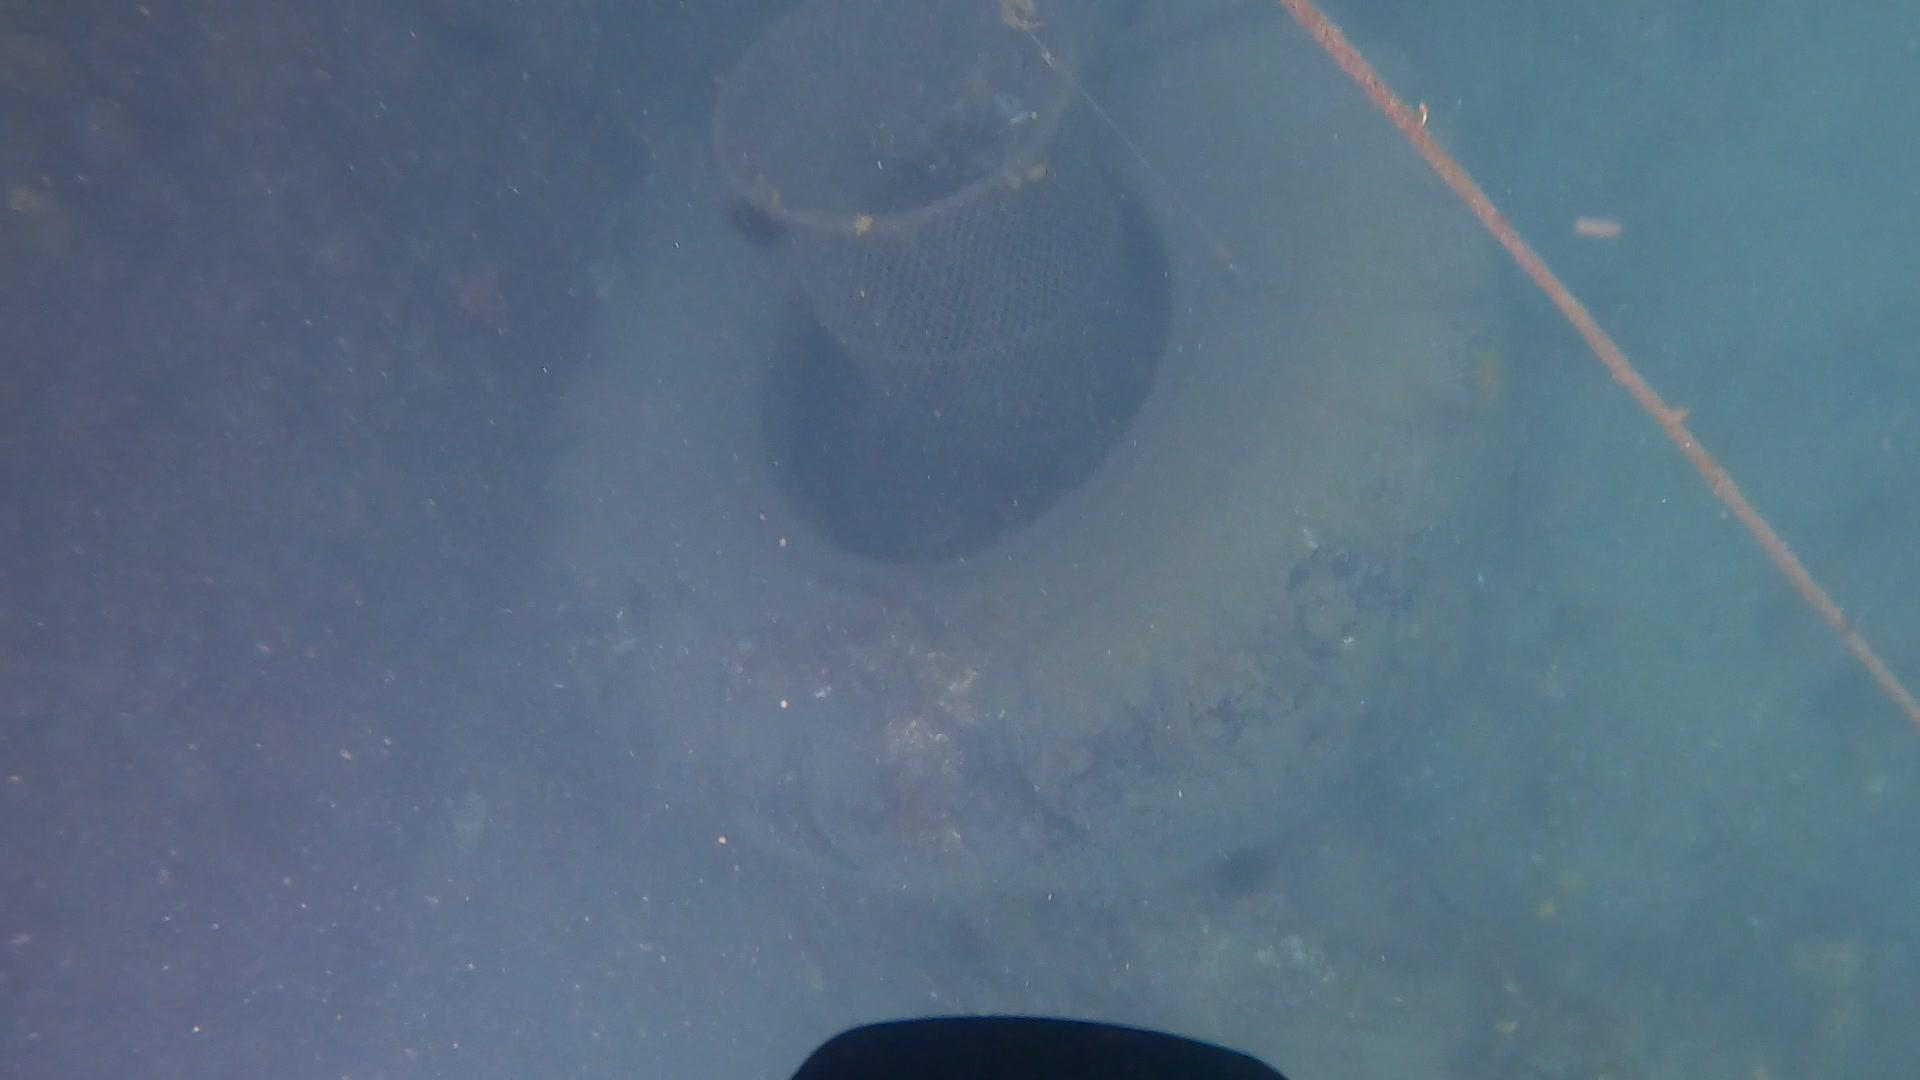rope: (1286, 0, 1920, 721)
spring fish trap: (708, 0, 1133, 458)
tire: (549, 0, 1520, 893)
